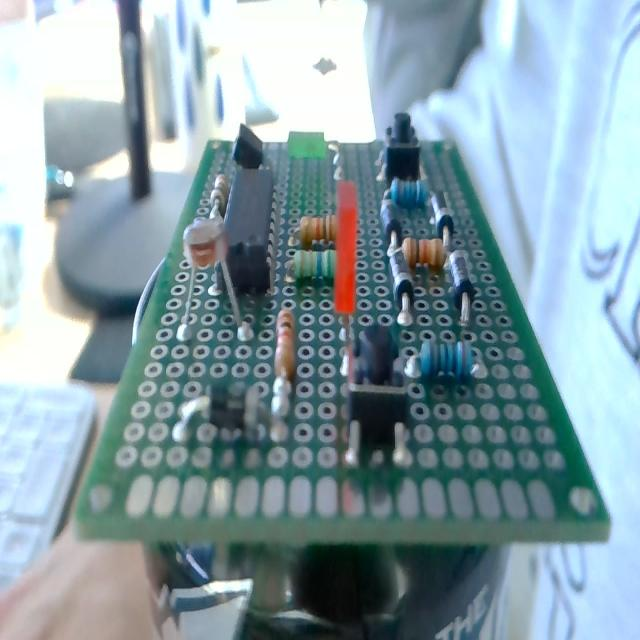IC: (221, 164, 283, 296)
cds: (177, 221, 244, 342)
diode: (177, 380, 273, 444), (447, 248, 475, 310), (388, 247, 414, 310), (430, 190, 454, 239), (380, 197, 403, 244)
led: (332, 183, 357, 389), (285, 125, 343, 180)
resistor: (418, 336, 475, 381), (274, 306, 295, 382), (402, 238, 446, 270), (294, 250, 336, 280), (298, 216, 337, 248), (391, 178, 428, 210), (211, 173, 228, 214)
switch: (347, 328, 406, 448), (384, 112, 421, 181)
transistor: (229, 122, 273, 178)
